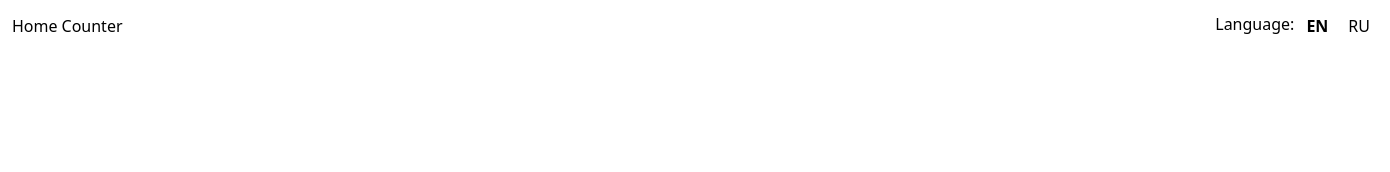
Test: Nav › i18n › switches to Russian after clicking RU button
This screenshot has width=1390, height=172.
Click the button "RU" at (1359, 26), box [1340,12,1378,40]
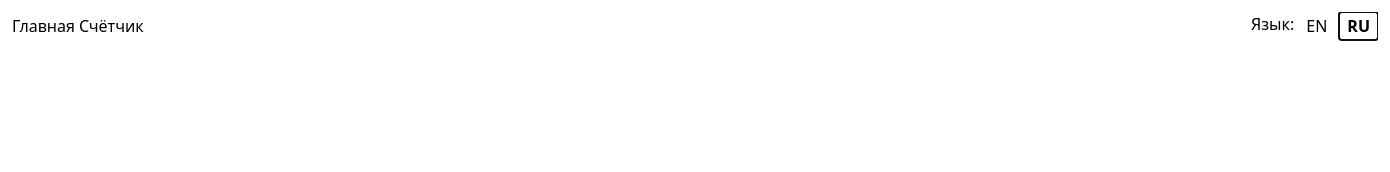
Expected: the link "Главная" is shown, [12,14,75,38]
Expected: the link "Счётчик" is shown, [79,14,144,38]
Expected: the text "Язык:" is shown, [1251,12,1294,40]
